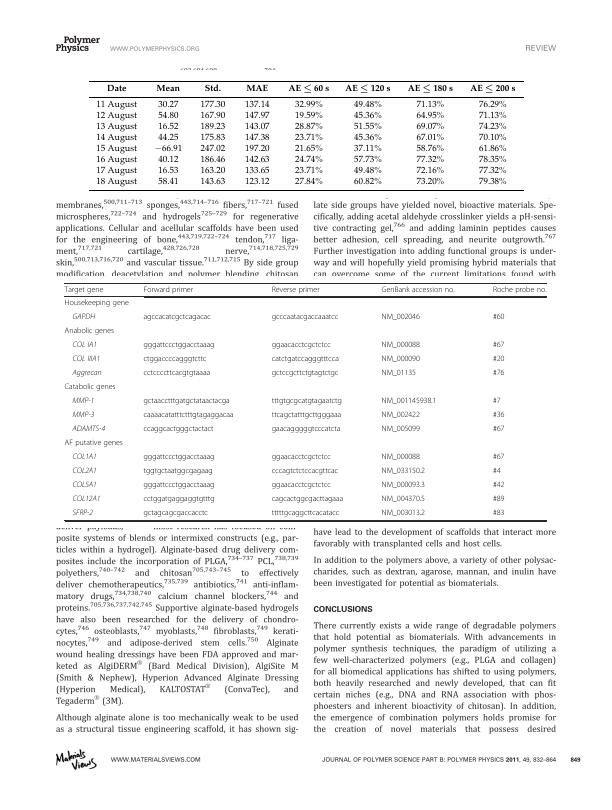borderless: (63, 281, 546, 520), (88, 79, 524, 190)
cell: (142, 410, 234, 420), (142, 396, 231, 406), (142, 340, 215, 350), (142, 452, 215, 462), (142, 480, 215, 490), (142, 494, 215, 504), (271, 494, 344, 504), (271, 396, 343, 406), (142, 424, 214, 434), (142, 466, 214, 476), (271, 410, 342, 420), (142, 312, 212, 322), (271, 424, 341, 434), (271, 354, 340, 364), (142, 368, 211, 378), (271, 508, 340, 518), (271, 312, 339, 322), (271, 368, 339, 378), (271, 466, 339, 476), (381, 285, 456, 294), (142, 508, 209, 518), (64, 298, 130, 308), (142, 354, 207, 364), (271, 340, 332, 350), (63, 438, 124, 448), (271, 452, 332, 462), (271, 480, 332, 490), (381, 396, 437, 406), (64, 382, 116, 392), (64, 326, 115, 336), (492, 285, 547, 294), (344, 84, 391, 94), (406, 84, 453, 94), (469, 84, 516, 94), (142, 285, 194, 294), (95, 100, 137, 111), (95, 111, 137, 122), (95, 122, 137, 133), (95, 133, 137, 144), (95, 144, 137, 155), (95, 155, 137, 166), (95, 166, 137, 177), (95, 177, 137, 188), (381, 466, 426, 476), (381, 480, 426, 490), (381, 494, 426, 504), (381, 508, 426, 518), (271, 285, 320, 294), (287, 84, 330, 94), (381, 312, 421, 322), (381, 340, 421, 350), (381, 354, 421, 364), (381, 410, 421, 420), (381, 424, 421, 434), (381, 452, 421, 462), (64, 285, 104, 294), (381, 368, 417, 378), (352, 100, 382, 111), (415, 100, 445, 111), (477, 100, 507, 111), (352, 111, 382, 122), (415, 111, 445, 122), (477, 111, 507, 122), (352, 122, 382, 133), (415, 122, 445, 133), (477, 122, 507, 133), (352, 133, 382, 144), (415, 133, 445, 144), (477, 133, 507, 144), (153, 144, 183, 155), (352, 144, 382, 155), (415, 144, 445, 155), (477, 144, 507, 155), (352, 155, 382, 166), (415, 155, 445, 166), (477, 155, 507, 166), (352, 166, 382, 177), (415, 166, 445, 177), (477, 166, 507, 177), (352, 177, 382, 188), (415, 177, 445, 188), (477, 177, 507, 188), (294, 100, 323, 111), (294, 111, 323, 122), (294, 122, 323, 133), (294, 133, 323, 144), (294, 144, 323, 155), (294, 155, 323, 166), (294, 166, 323, 177), (294, 177, 323, 188), (71, 424, 106, 433), (71, 368, 102, 378), (71, 354, 101, 364), (199, 100, 226, 111), (243, 100, 270, 111), (199, 111, 226, 122), (243, 111, 270, 122), (199, 122, 226, 133), (243, 122, 270, 133), (199, 133, 226, 144), (243, 133, 270, 144), (199, 144, 226, 155), (243, 144, 270, 155), (199, 155, 226, 166), (243, 155, 270, 166), (199, 166, 226, 177), (243, 166, 270, 177), (199, 177, 226, 188), (243, 177, 270, 188), (71, 340, 98, 350), (71, 494, 101, 503), (71, 312, 96, 322), (71, 452, 98, 461), (71, 466, 98, 475), (71, 480, 98, 489), (157, 100, 179, 111), (157, 111, 179, 122), (157, 122, 179, 133), (157, 133, 179, 144), (157, 155, 179, 166), (157, 166, 179, 177), (157, 177, 179, 188), (71, 396, 95, 405), (71, 410, 95, 419), (155, 84, 181, 92), (71, 508, 94, 517), (245, 84, 268, 92), (105, 84, 127, 92), (203, 84, 221, 92), (492, 312, 505, 322), (492, 340, 505, 350), (492, 354, 505, 364), (492, 368, 505, 378), (492, 410, 505, 420), (492, 424, 505, 434), (492, 452, 505, 462), (492, 480, 505, 490), (492, 494, 505, 504), (492, 508, 505, 518), (492, 396, 501, 406), (492, 466, 501, 476)
